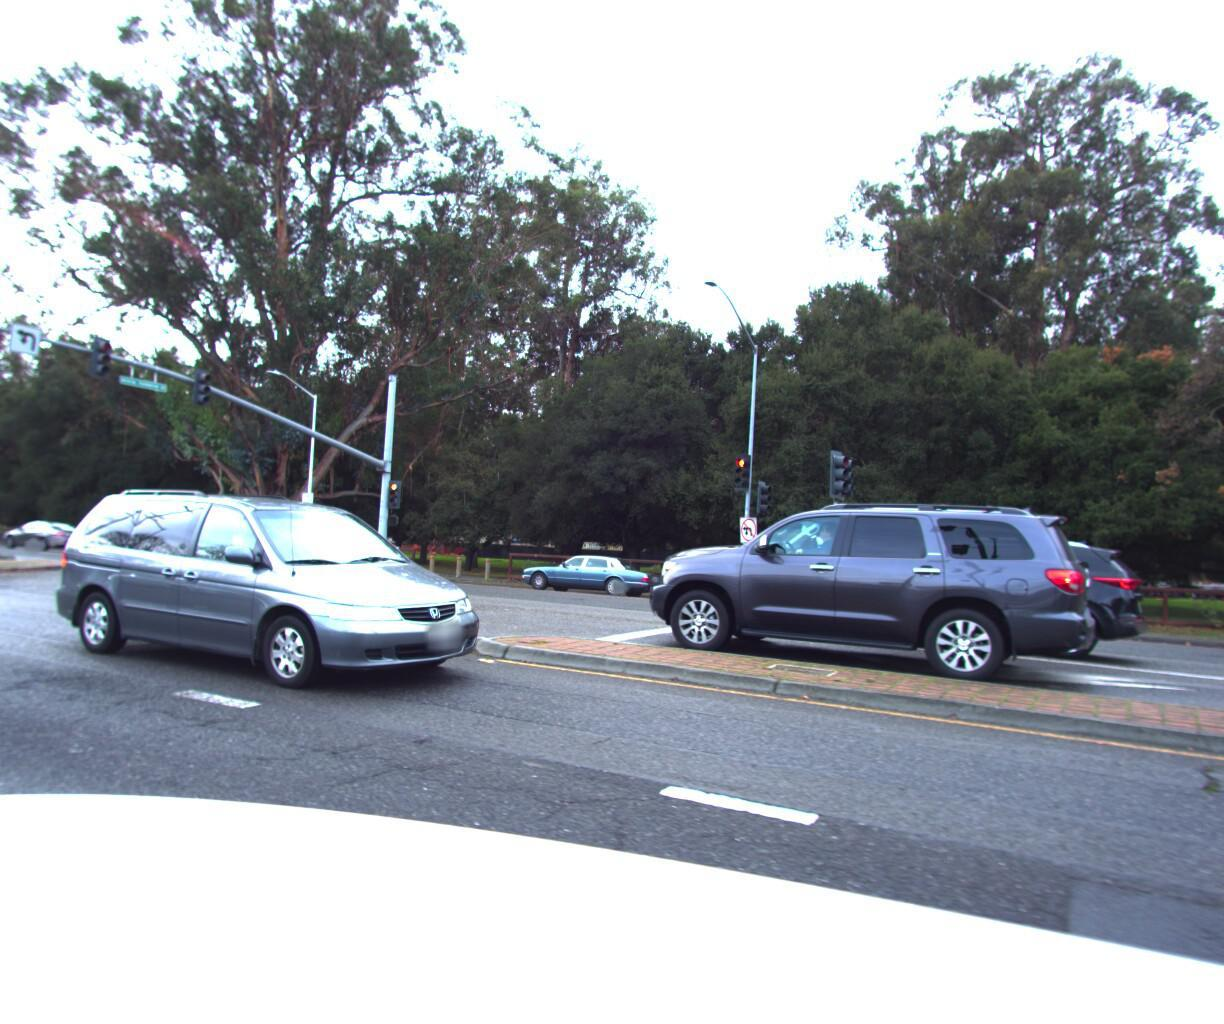car: (23, 487, 493, 716), (603, 493, 1114, 697), (790, 526, 1180, 674), (516, 551, 669, 604), (0, 524, 94, 558)
